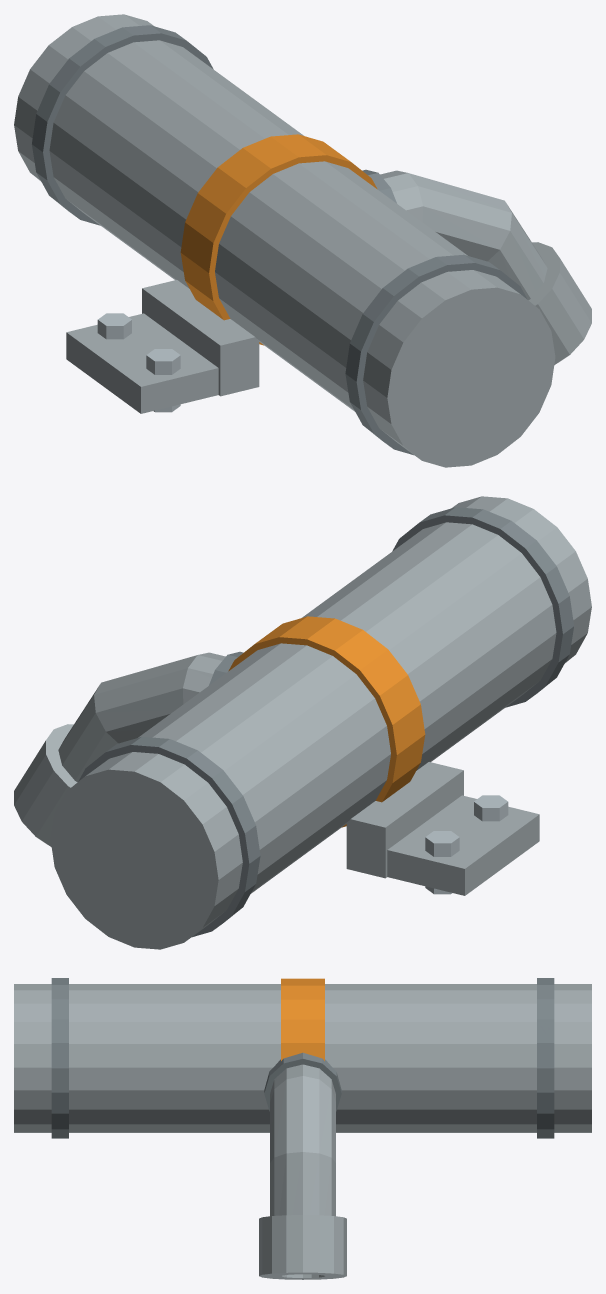
The model's file is body.obj.
3 views of the same model, one above another, from view 1: azimuth 30°, elevation 25°; view 2: azimuth 150°, elevation 25°; view 3: azimuth 270°, elevation 25° (orthographic). The views are drawn at different scales.
Bounding box in the file's own units: 0.7434 × 0.4081 × 1.
